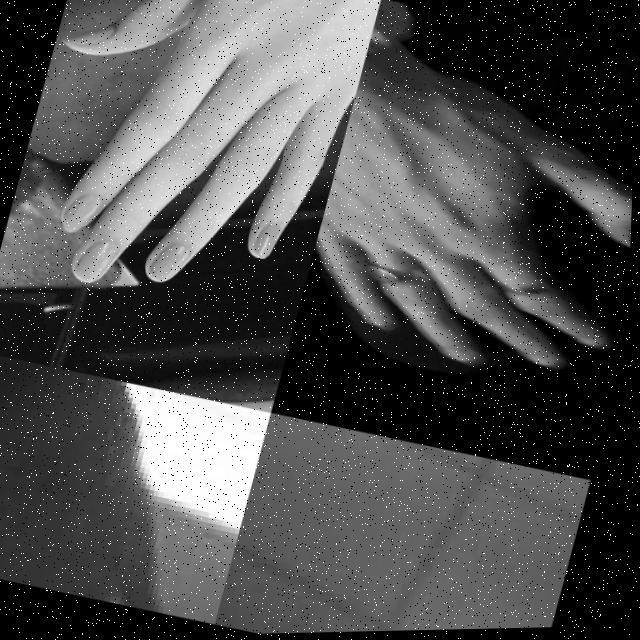no-gloves: (292, 34, 639, 404), (1, 0, 380, 333), (0, 343, 252, 623)
